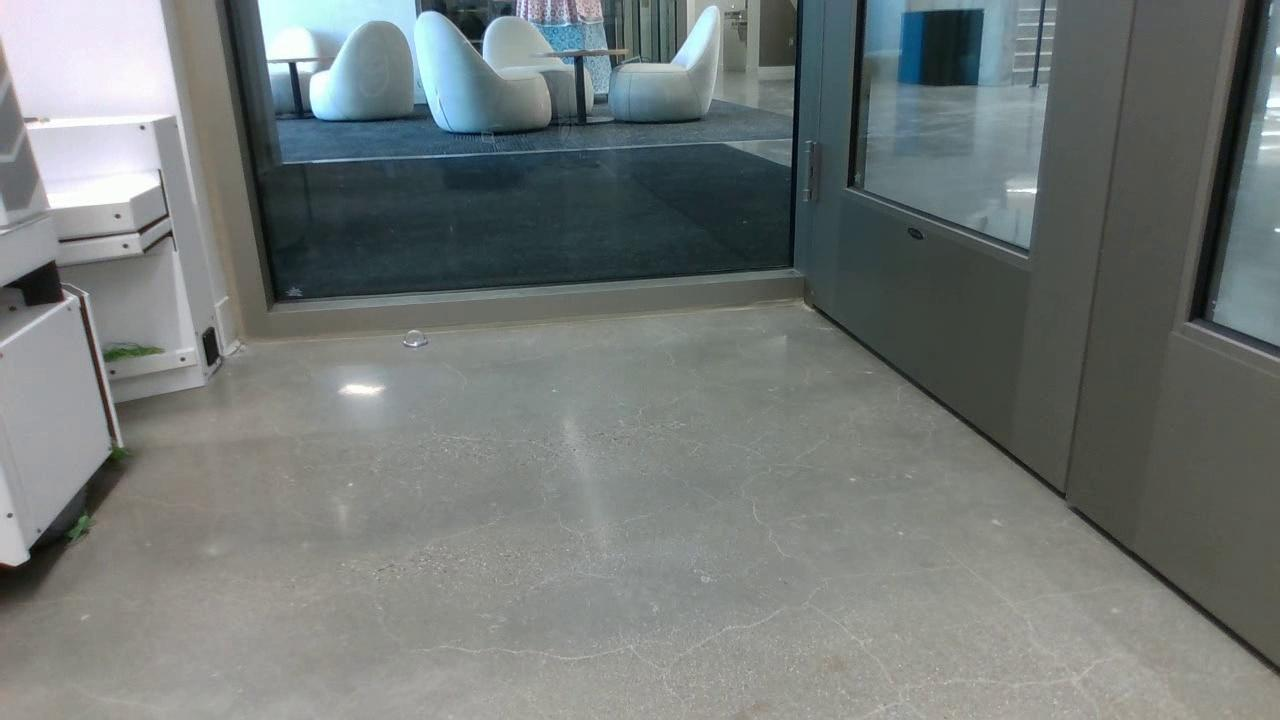grasshopper: (103, 342, 166, 362), (104, 440, 135, 459)
